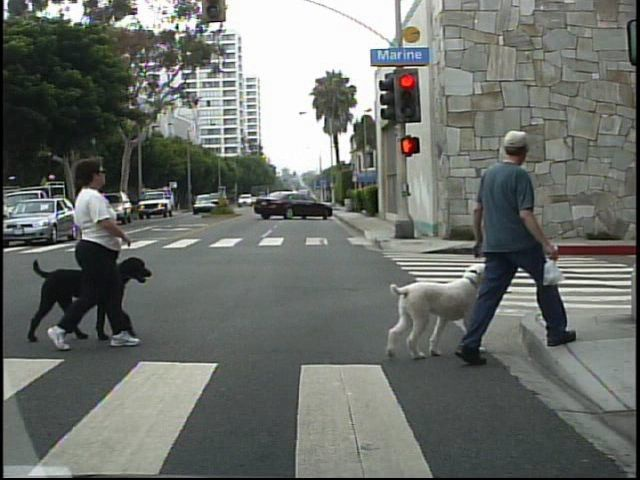person: (453, 117, 573, 366), (53, 149, 131, 353)
